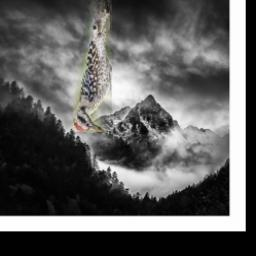Woodpecker: (73, 0, 112, 132)
